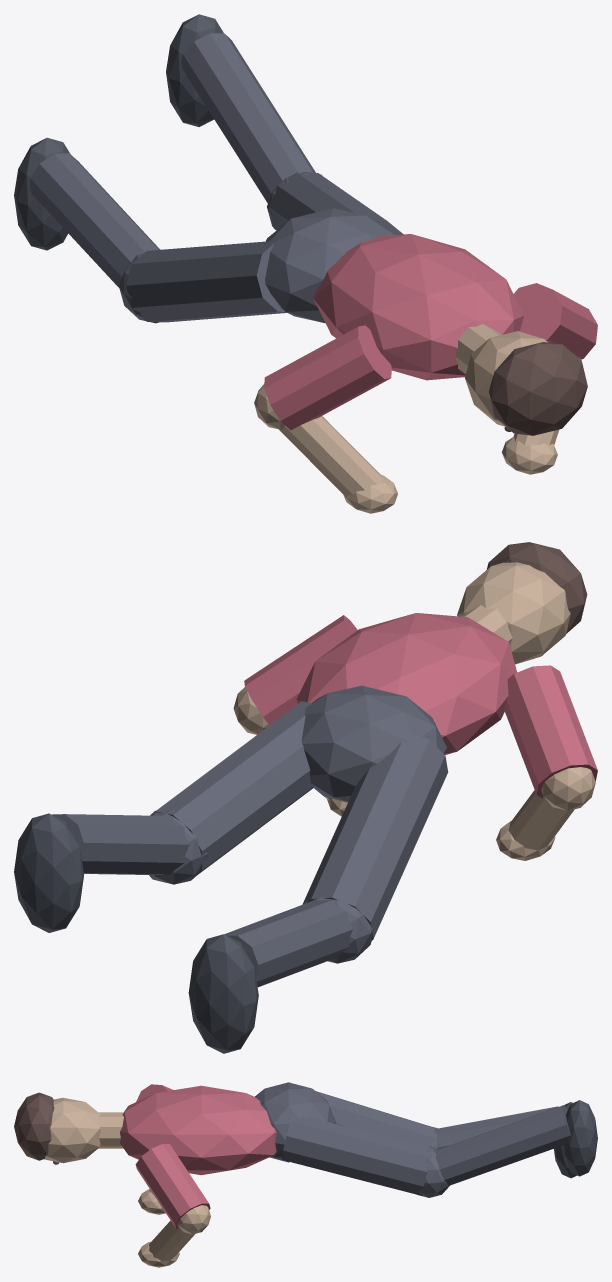
3 views of the same model, one above another, from view 1: azimuth 30°, elevation 25°; view 2: azimuth 150°, elevation 25°; view 3: azimuth 270°, elevation 25° (orthographic). The views are drawn at different scales.
Parts seen in each view (by area): view 1: world; view 2: world; view 3: world.
Part boxes in pixels (<box>): world: <box>14,14,597,513</box>; world: <box>14,542,597,1053</box>; world: <box>14,1082,597,1267</box>.
Size of the model in its own units: 0.93 by 0.6213 by 2.07.
